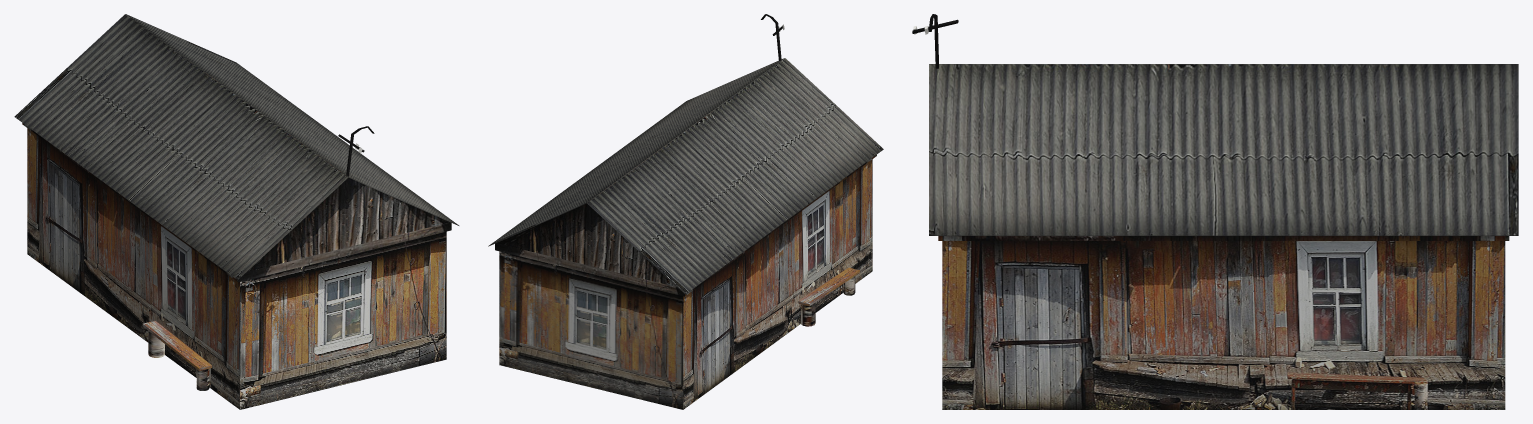
The model's file is sibir_budka3.FBX.
The picture shows the model from 3 angles, left to right: view 1: azimuth 30°, elevation 25°; view 2: azimuth 150°, elevation 25°; view 3: azimuth 270°, elevation 25°; orthographic projection. The views are drawn at different scales.
Parts seen in each view (by area): view 1: sibir_budka3; view 2: sibir_budka3; view 3: sibir_budka3.
Part boxes in pixels (x1,y1,x2,y2): sibir_budka3: (14,14,459,409); sibir_budka3: (488,14,883,409); sibir_budka3: (912,14,1518,409).
Bounding box in the file's own units: 464 × 810 × 499.
